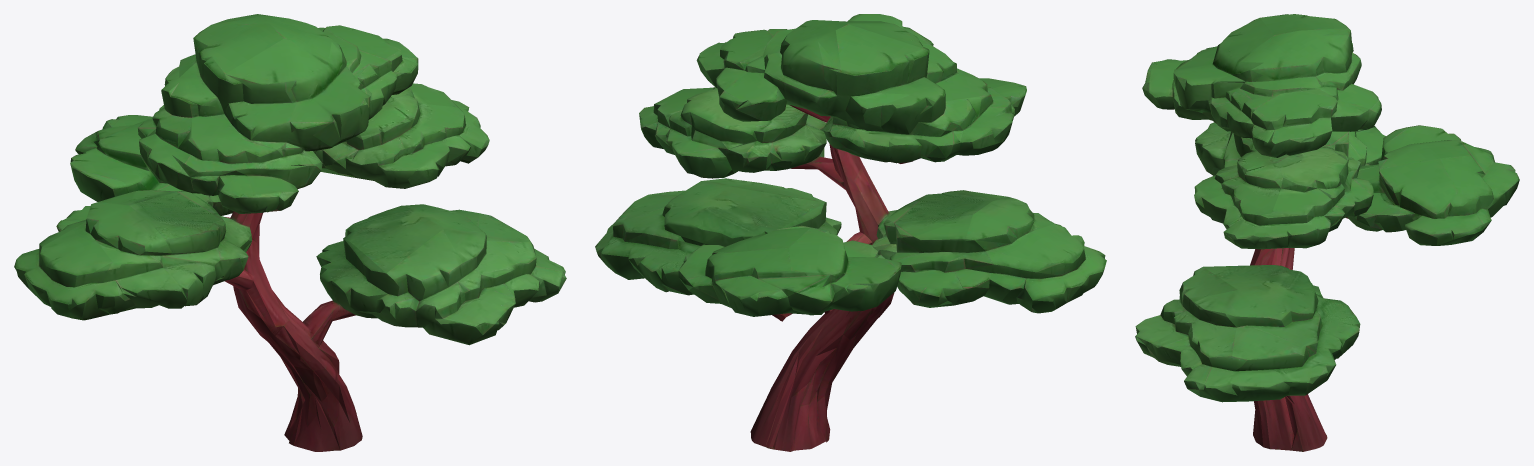
File: pine.glb
3 renders of one model, left to right at view 1: azimuth 30°, elevation 25°; view 2: azimuth 150°, elevation 25°; view 3: azimuth 270°, elevation 25°, orthographic. The views are drawn at different scales.
Size of the model in its own units: 1.9 by 1.55 by 1.41.
Materials: 1 (1 with a texture image).
